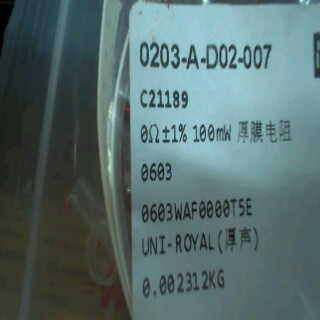0R: (137, 121, 238, 181)
